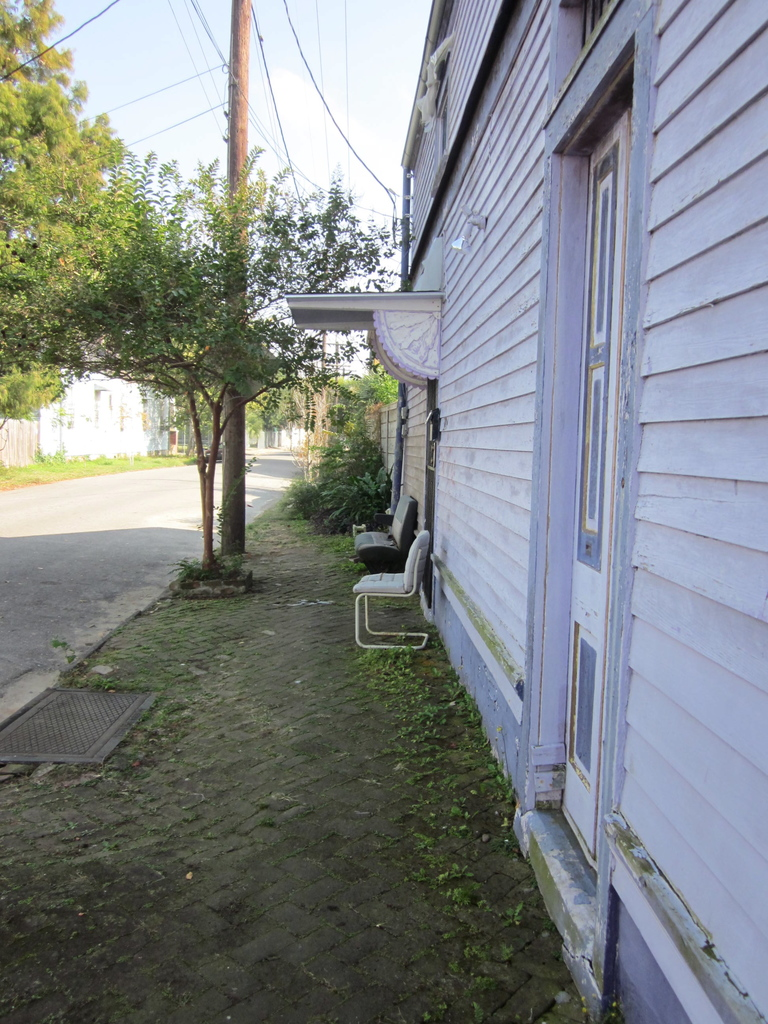Tree: (0, 139, 383, 573), (0, 90, 120, 438), (0, 10, 120, 156), (315, 368, 408, 480), (280, 358, 330, 447)
